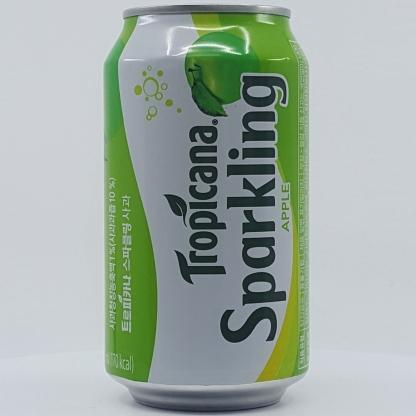-------------355ML: (103, 4, 309, 412)
